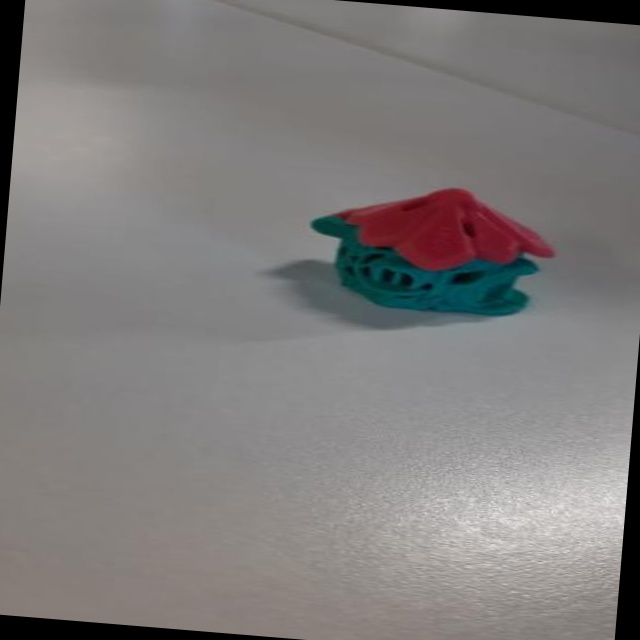House: (297, 170, 556, 339)
